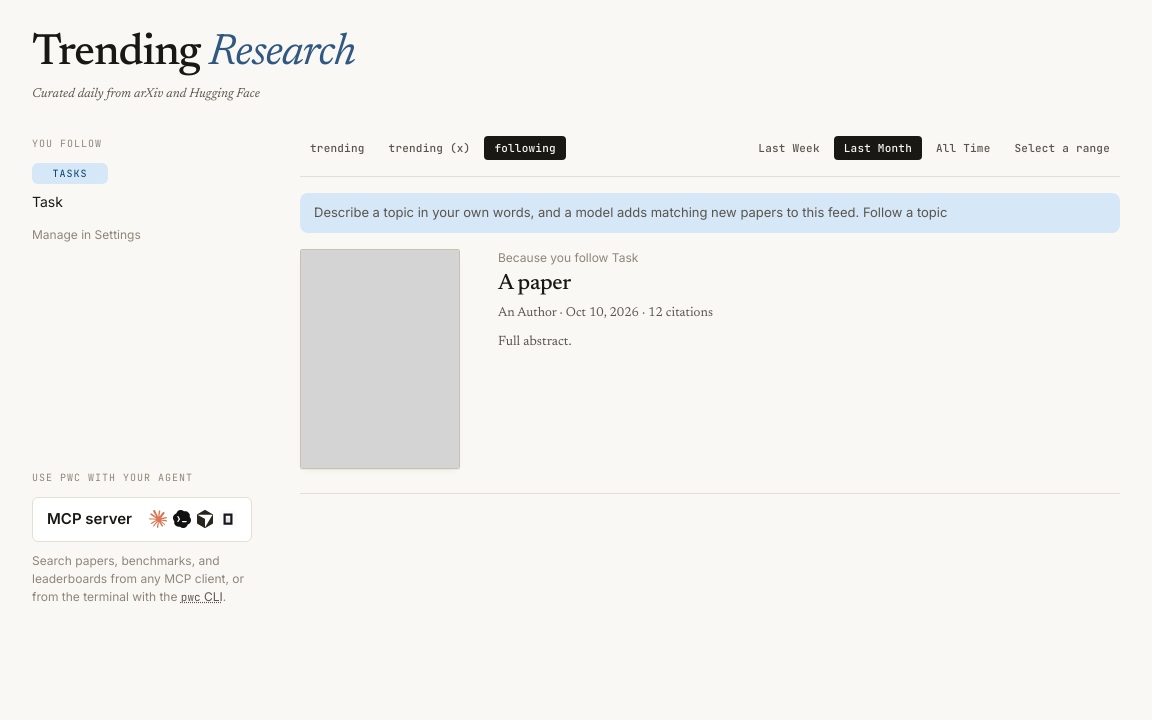
Test: renders following in the existing tab row with standard paper cards and thumbnails
The width and height of the screenshot is (1152, 720).
Expected: the text "A paper" is shown, [498,272,571,294]
Expected: the element showing "An Author · Oct 10, 2026 · 12 citations" is shown, [498,306,713,319]
Step 1. Click the button "trending" → (337, 148), box [300,136,375,160]
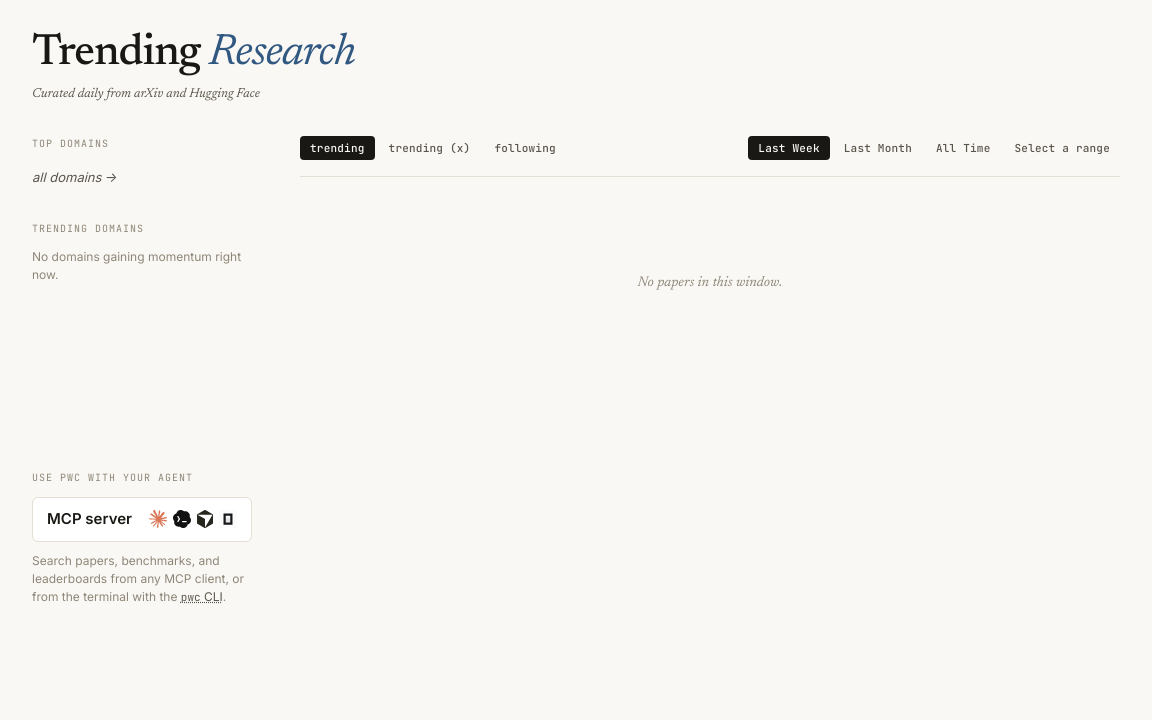
Now the text "No papers in this window." is shown, box [638,276,782,290]
